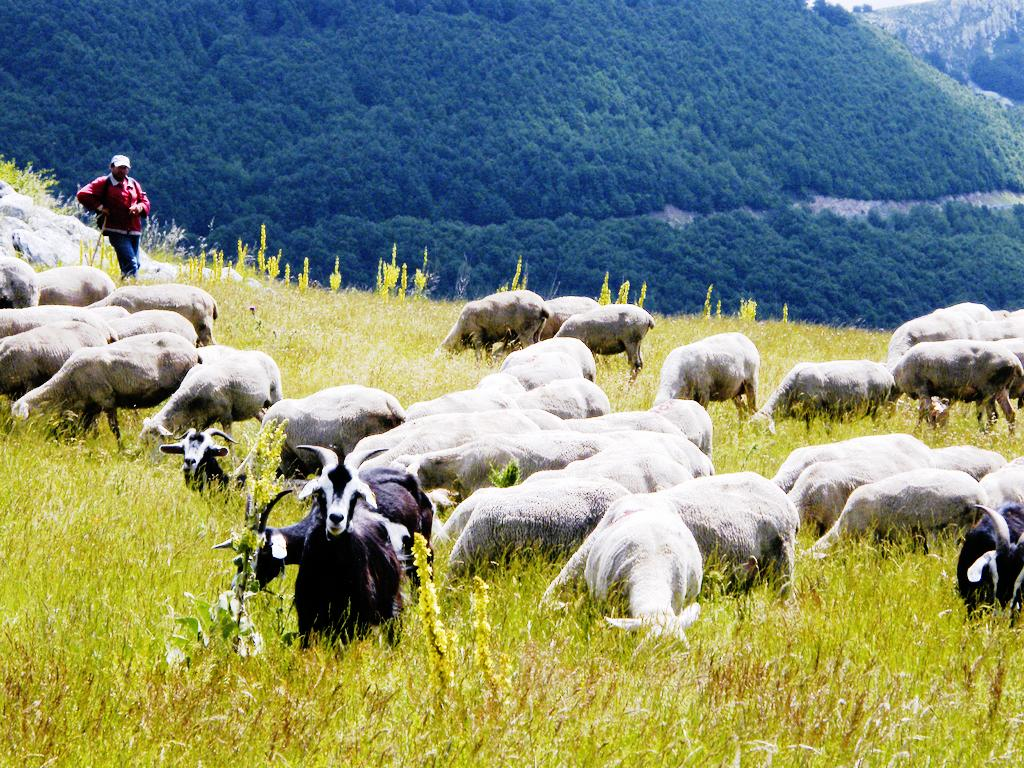Sheep: (632, 472, 801, 600), (480, 474, 630, 594), (813, 468, 993, 558), (243, 384, 405, 480), (146, 351, 284, 455), (890, 341, 1024, 436), (643, 324, 762, 426), (750, 359, 898, 433), (389, 434, 537, 504), (772, 434, 936, 497), (0, 320, 117, 408), (425, 287, 552, 368), (92, 281, 221, 352), (442, 485, 528, 585), (352, 403, 514, 453), (550, 440, 696, 492), (556, 301, 652, 379), (885, 308, 983, 370), (0, 305, 116, 349), (629, 398, 716, 456), (94, 309, 200, 350), (406, 383, 516, 420), (506, 380, 598, 420), (32, 266, 116, 308), (920, 445, 1008, 482), (977, 460, 1024, 514), (972, 318, 1024, 344), (940, 302, 996, 324)
